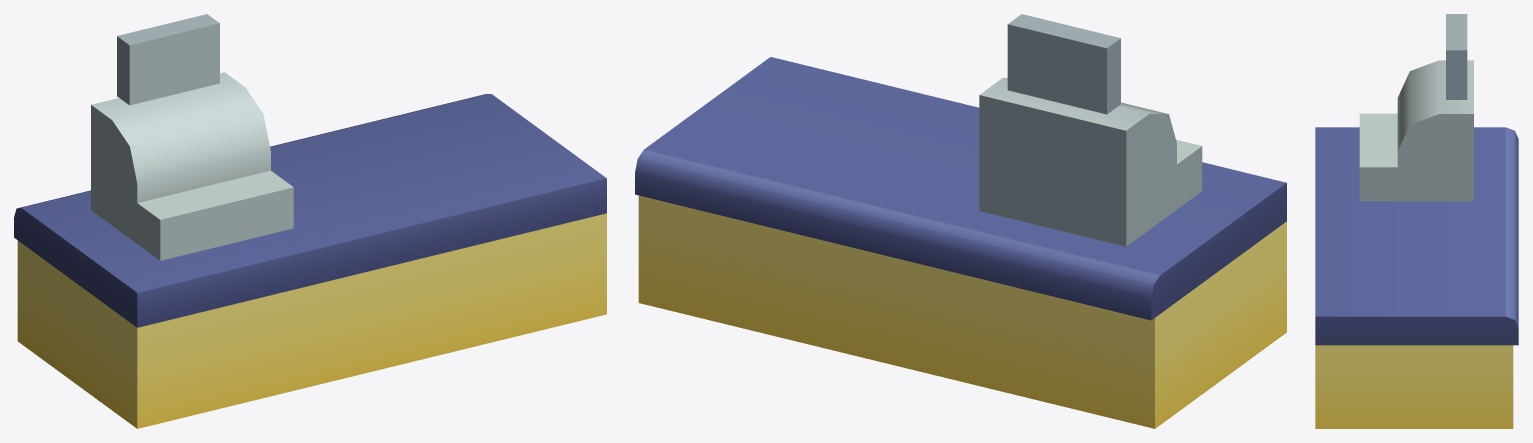
The model's file is Cashier_desk.fbx.
3 views of the same model, side by side, from view 1: azimuth 30°, elevation 25°; view 2: azimuth 150°, elevation 25°; view 3: azimuth 270°, elevation 25° (orthographic). The views are drawn at different scales.
Visible parts, largest first — view 1: Cashier_desk; view 2: Cashier_desk; view 3: Cashier_desk.
Part boxes in pixels (x1,y1,x2,y2): Cashier_desk: (14, 14, 606, 428); Cashier_desk: (635, 14, 1286, 428); Cashier_desk: (1315, 14, 1518, 428).
Size of the model in its own units: 1.82 by 0.8286 by 1.14.
